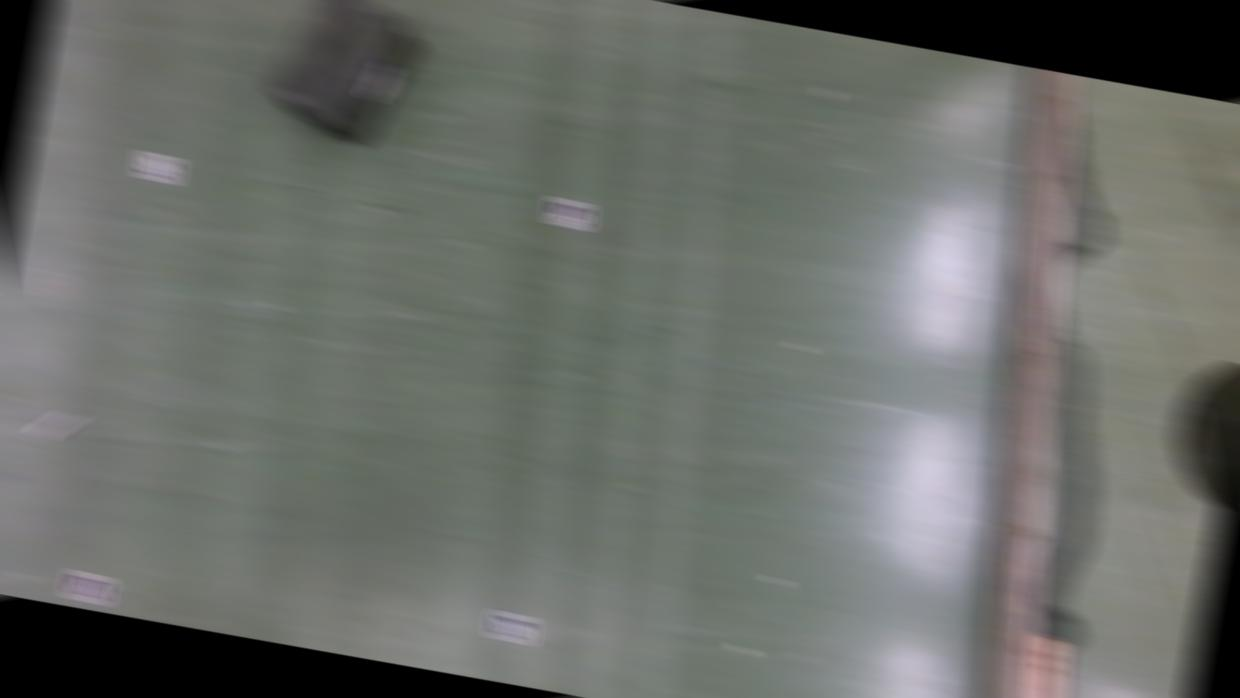probes: (32, 402, 84, 444)
rako: (256, 0, 431, 158)
